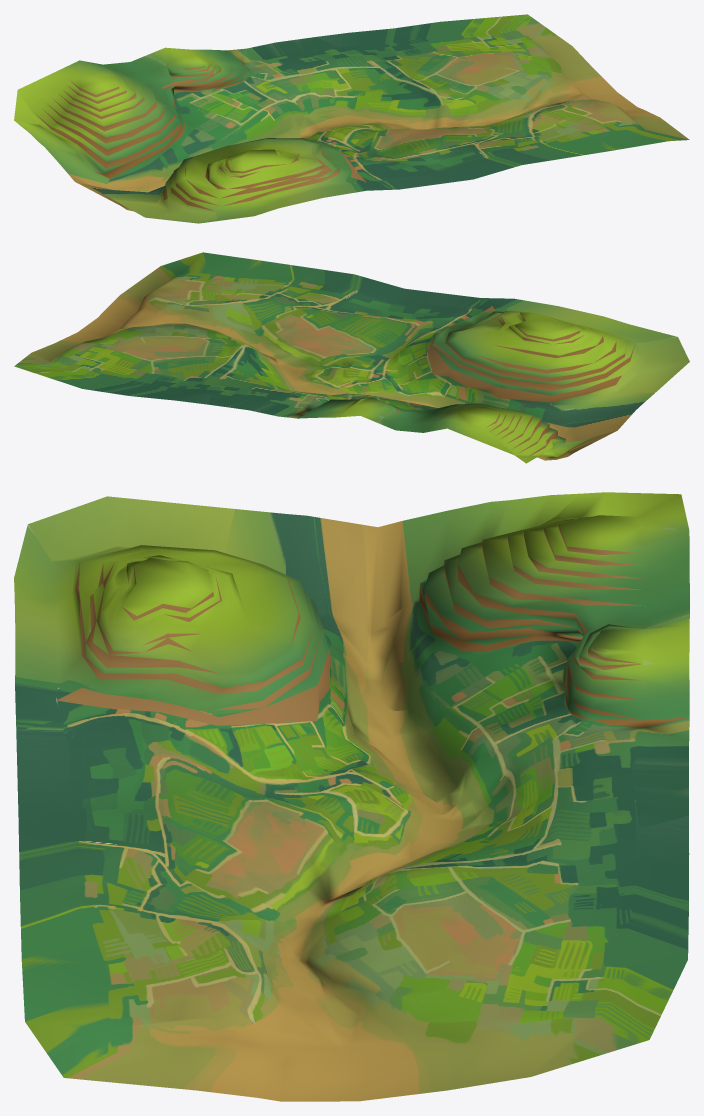
The model's file is SM_Valley.fbx.
3 renders of one model, top to bottom at view 1: azimuth 30°, elevation 25°; view 2: azimuth 150°, elevation 25°; view 3: azimuth 270°, elevation 25°, orthographic. The views are drawn at different scales.
Visible parts, largest first — view 1: SM_Valley; view 2: SM_Valley; view 3: SM_Valley.
Boxes of the visible parts, <box> form: SM_Valley: <box>14,14,689,223</box>; SM_Valley: <box>14,252,689,463</box>; SM_Valley: <box>14,492,689,1101</box>.
Size of the model in its own units: 27617 by 4251 by 15702.
